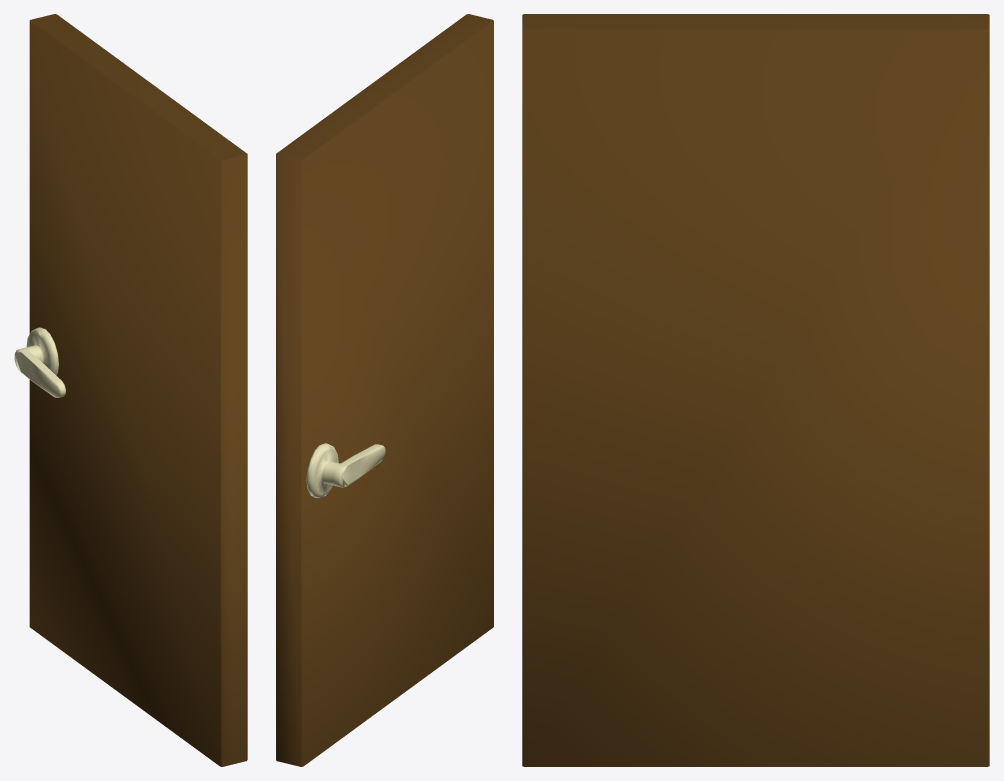
File: puerta.fbx
3 views of the same model, side by side, from view 1: azimuth 30°, elevation 25°; view 2: azimuth 150°, elevation 25°; view 3: azimuth 270°, elevation 25° (orthographic). The views are drawn at different scales.
Parts seen in each view (by area): view 1: Cuarto.Puerta.001; view 2: Cuarto.Puerta.001; view 3: Cuarto.Puerta.001.
Boxes of the visible parts, x1,y1,x2,y2 form: Cuarto.Puerta.001: (14,14,247,766); Cuarto.Puerta.001: (276,14,493,766); Cuarto.Puerta.001: (522,14,989,766).
Size of the model in its own units: 13.74 by 148 by 84.89.
